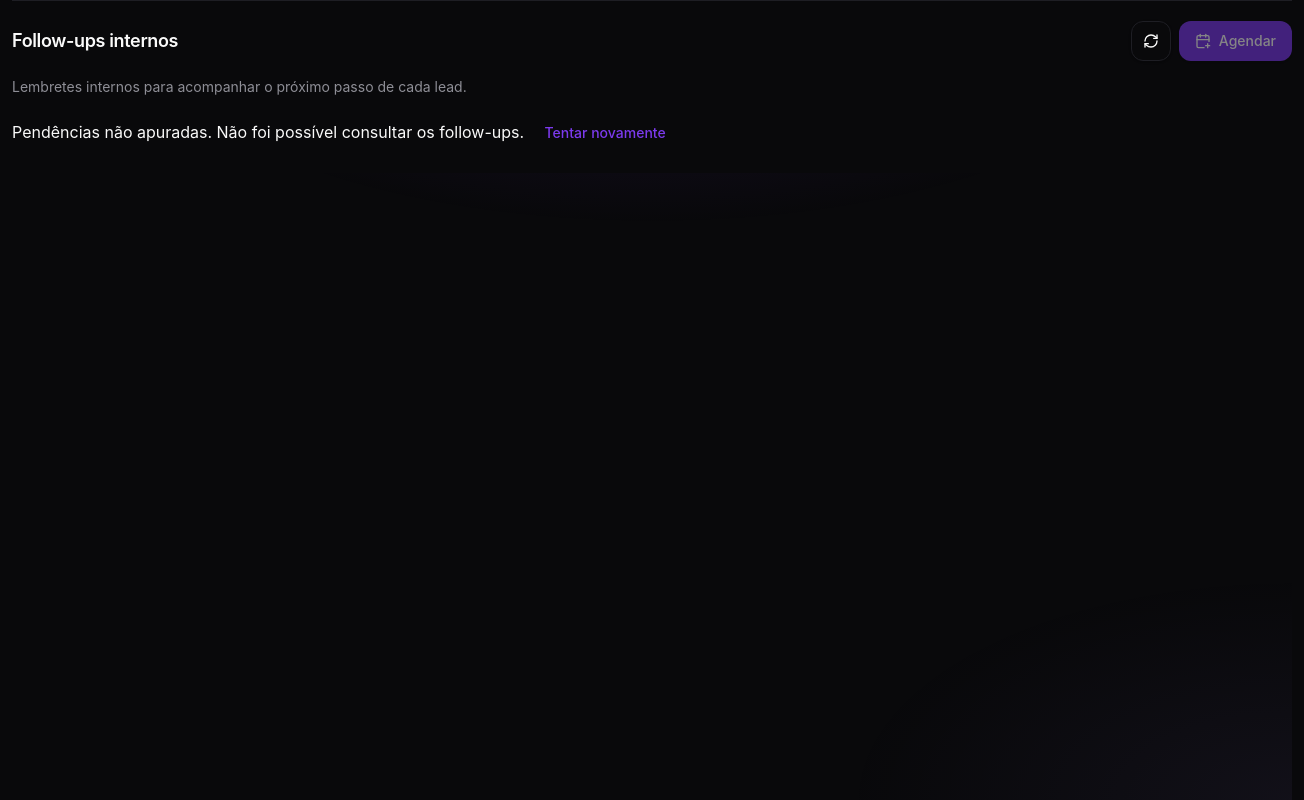
Test: erro de consulta permite recuperação sem mostrar contagens prontas
Click the button "Tentar novamente" at (605, 133), box [529, 113, 682, 153]
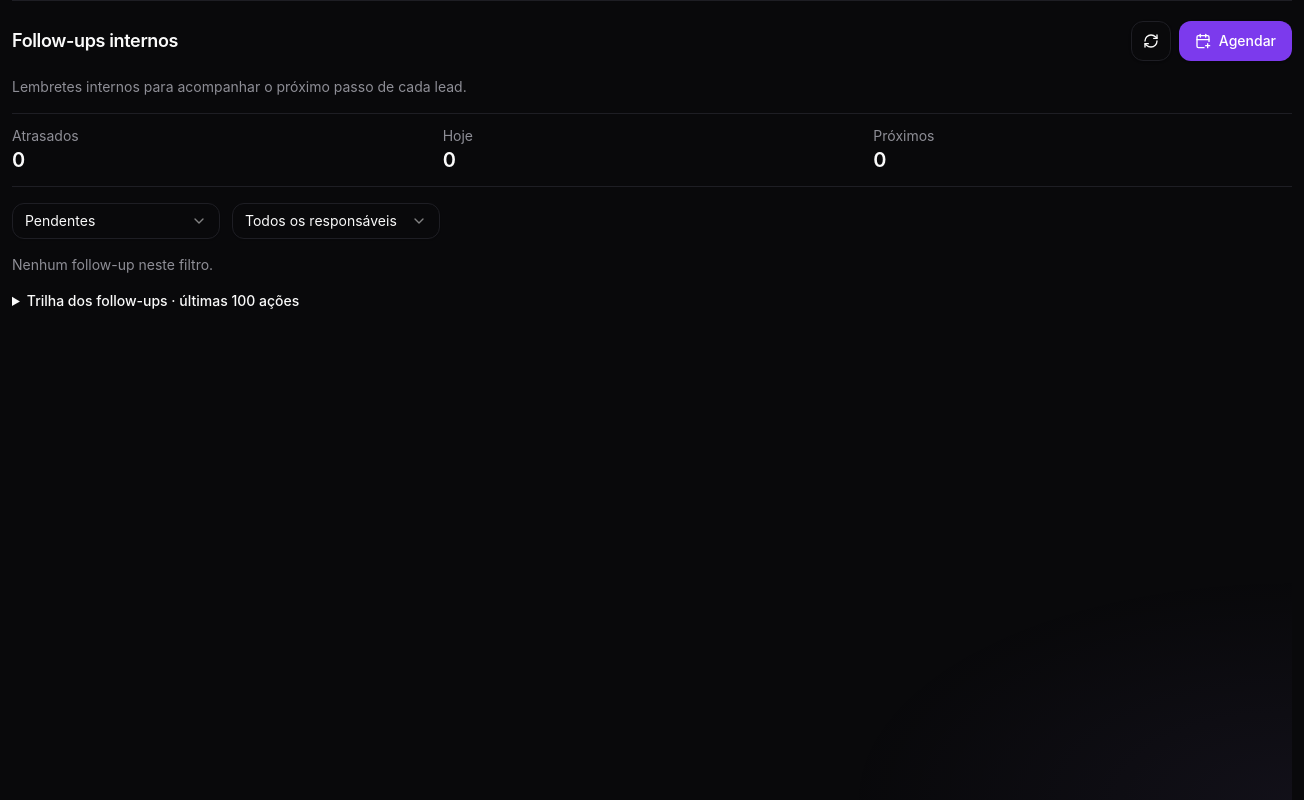
Check: the text "Nenhum follow-up neste filtro." is shown, box [12, 256, 213, 273]
